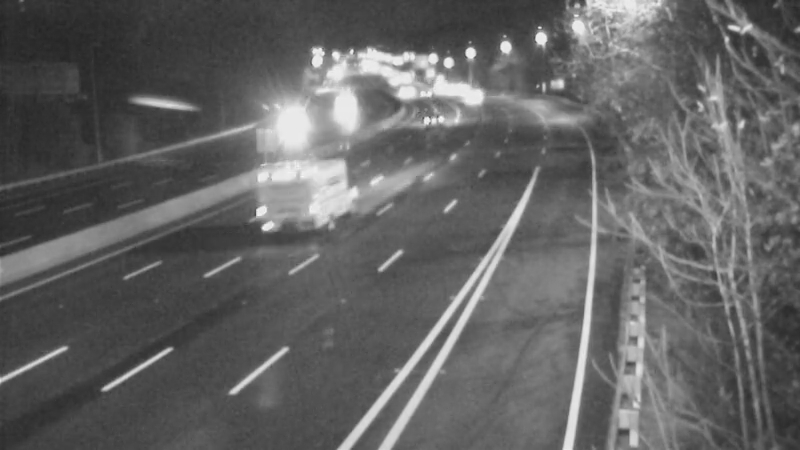vehicle: (260, 136, 340, 216), (379, 61, 429, 111), (397, 66, 447, 116), (446, 73, 496, 123), (404, 93, 454, 143), (252, 107, 302, 157), (320, 91, 370, 141)
